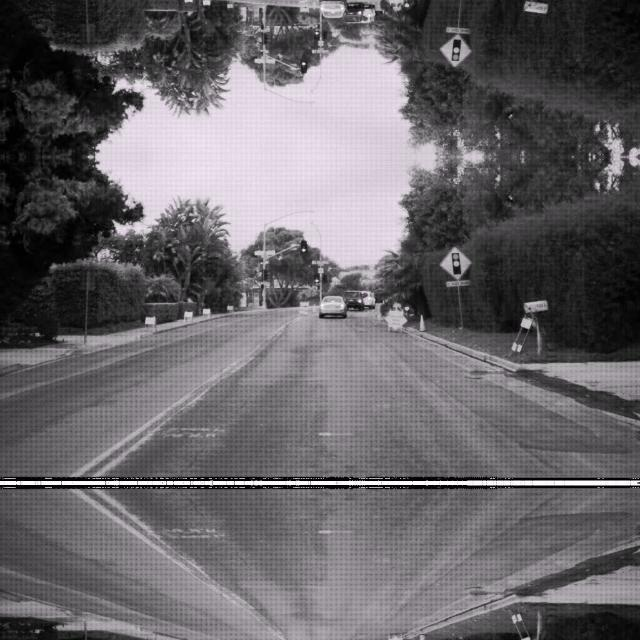signalAhead: (438, 246, 472, 278), (438, 34, 472, 66)
